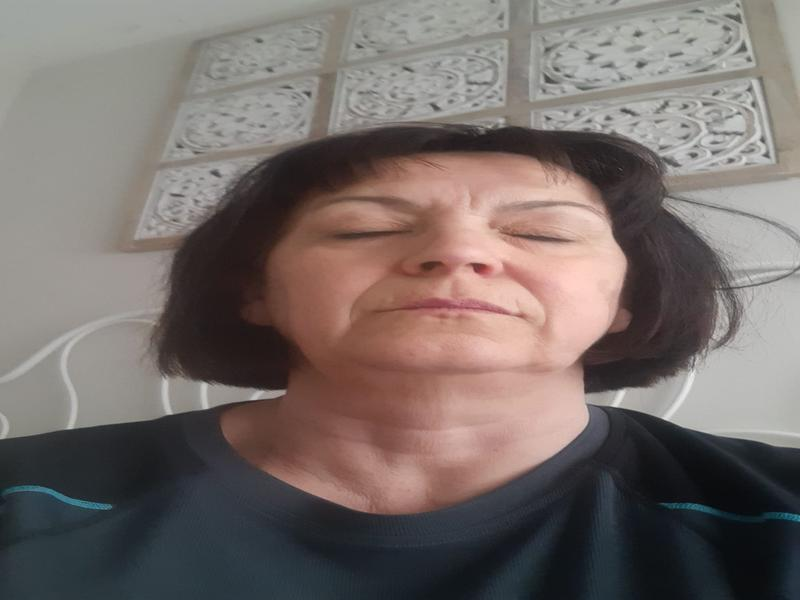NWink: (312, 204, 612, 258)
